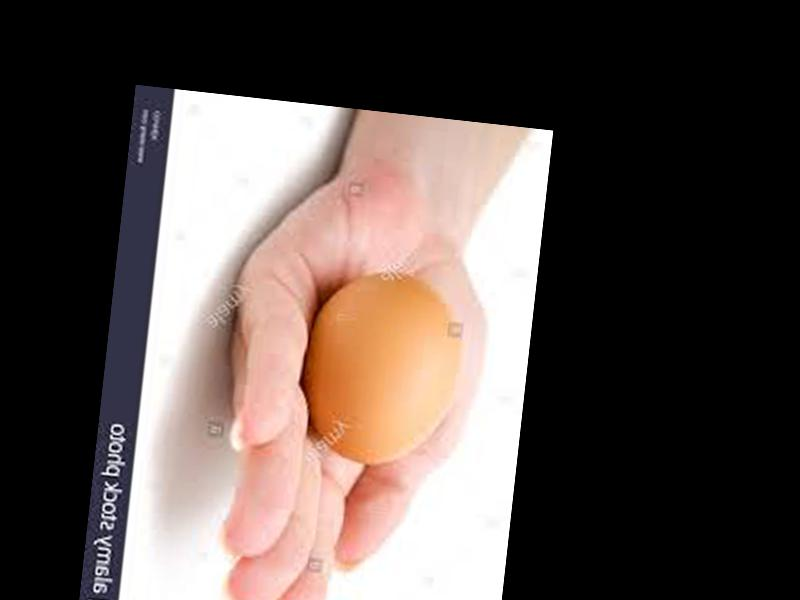Eggs: (297, 263, 472, 471)
